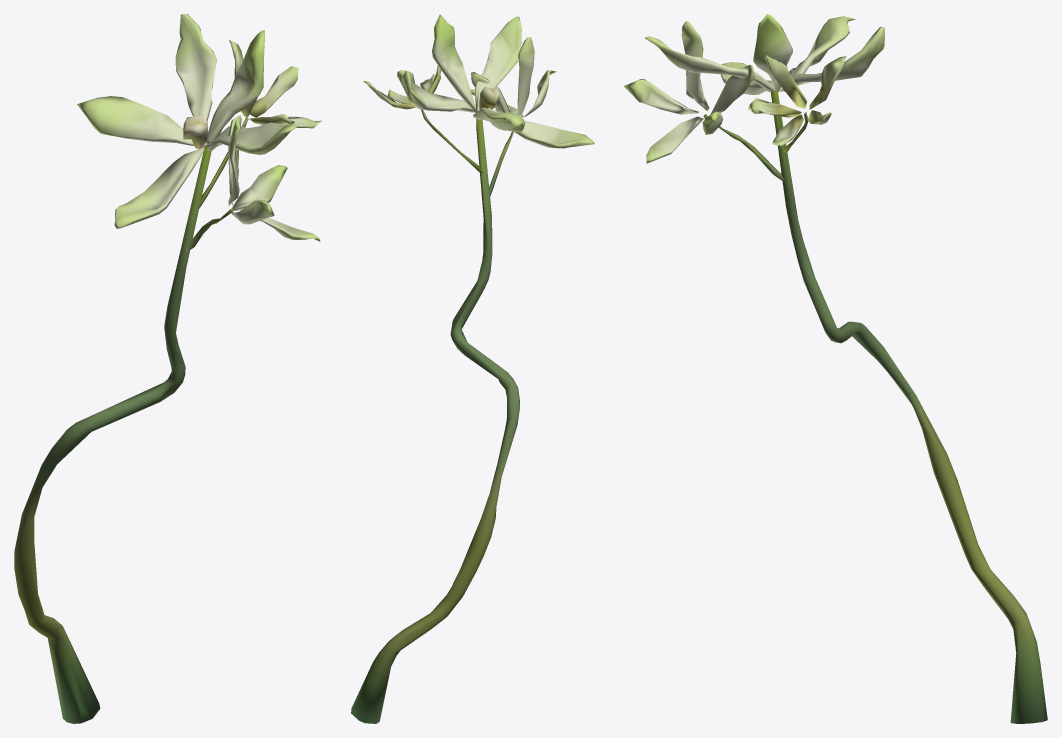
3 renders of one model, left to right at view 1: azimuth 30°, elevation 25°; view 2: azimuth 150°, elevation 25°; view 3: azimuth 270°, elevation 25°, orthographic. The views are drawn at different scales.
Parts seen in each view (by area): view 1: LOD 2_8817940389063460455_bb9398364d468ec489d5e3c54dd32286; view 2: LOD 2_8817940389063460455_bb9398364d468ec489d5e3c54dd32286; view 3: LOD 2_8817940389063460455_bb9398364d468ec489d5e3c54dd32286.
Part boxes in pixels (bbox=[...]): LOD 2_8817940389063460455_bb9398364d468ec489d5e3c54dd32286: bbox=[14, 14, 321, 723]; LOD 2_8817940389063460455_bb9398364d468ec489d5e3c54dd32286: bbox=[351, 14, 594, 723]; LOD 2_8817940389063460455_bb9398364d468ec489d5e3c54dd32286: bbox=[623, 14, 1047, 723].
Bounding box in the file's own units: 4.94 × 15.48 × 8.12.
